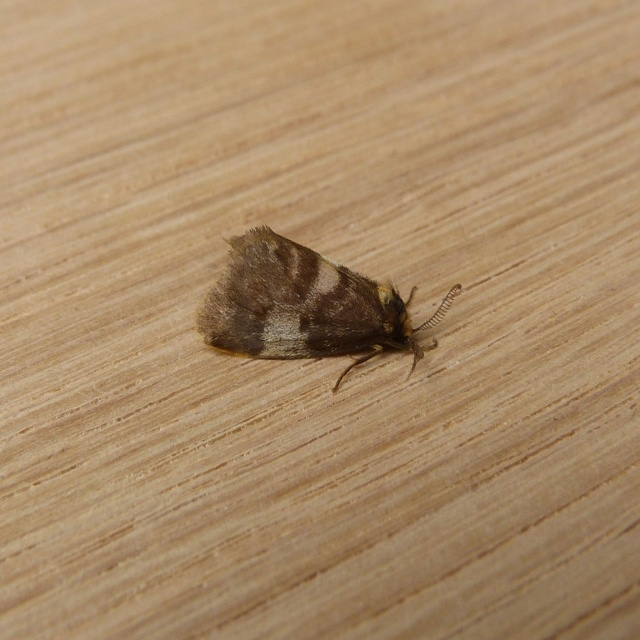Moths and butterflies: (194, 221, 466, 396)
